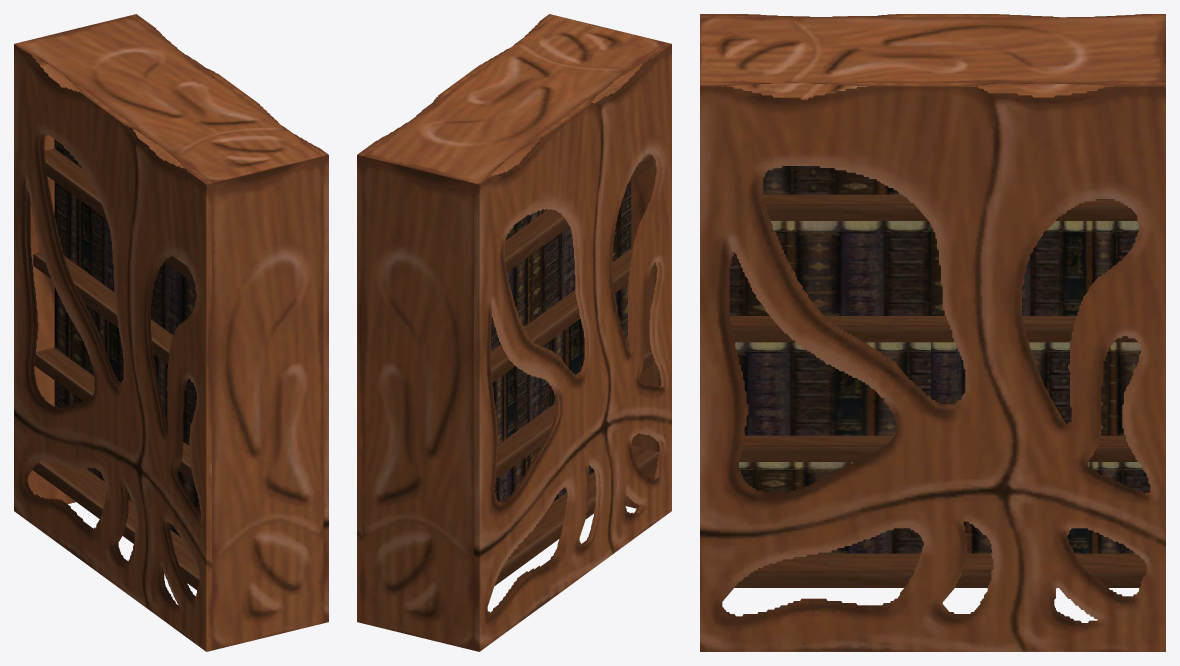
The model's file is INST_EKH_BOOKCASEA.obj.
3 views of the same model, side by side, from view 1: azimuth 30°, elevation 25°; view 2: azimuth 150°, elevation 25°; view 3: azimuth 270°, elevation 25° (orthographic). The views are drawn at different scales.
Parts seen in each view (by area): view 1: Bookcase_top, Bookcase_front, Object367; view 2: Bookcase_top, Bookcase_front, Object367; view 3: Bookcase_front, Object367, Bookcase_top.
Boxes of the visible parts, <box> form: Bookcase_top: <box>20,15,323,650</box>; Bookcase_front: <box>14,14,328,651</box>; Object367: <box>32,139,200,589</box>; Bookcase_top: <box>362,15,665,650</box>; Bookcase_front: <box>357,14,671,651</box>; Object367: <box>491,153,659,585</box>; Bookcase_front: <box>700,14,1165,651</box>; Object367: <box>729,166,1150,587</box>; Bookcase_top: <box>700,17,1165,99</box>.
Bounding box in the file's own units: 57.59 × 210 × 157.
